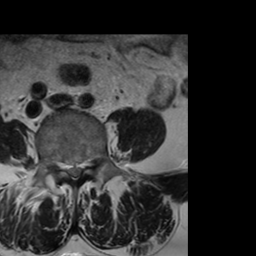CCS_severe_stenosis: (72, 154, 78, 188)
LFS_stenosis: (84, 149, 91, 173)
LLS_normal: (78, 154, 84, 184)
RFS_normal: (57, 152, 65, 178)
RLS_normal: (65, 154, 72, 185)
